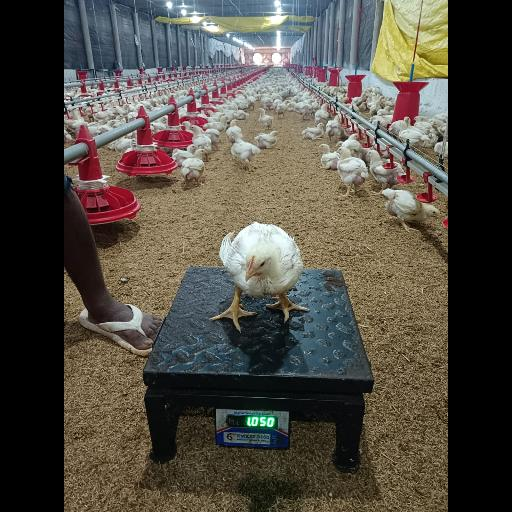chick: (212, 223, 308, 330)
